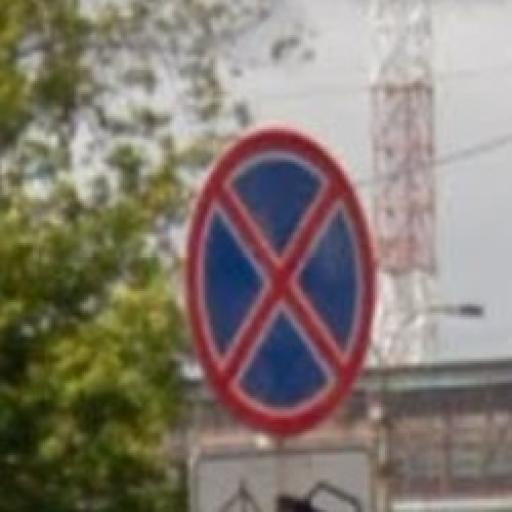traffic_sign: (187, 126, 378, 436)
